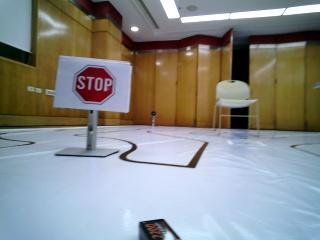stop: (66, 60, 122, 108)
